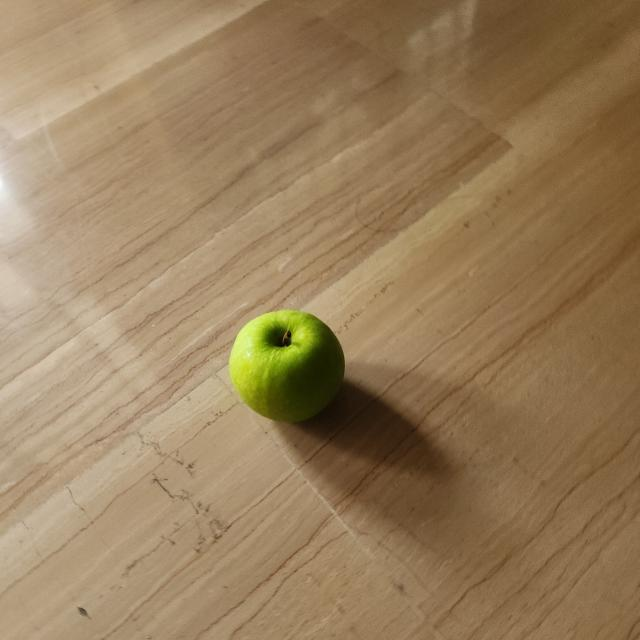apple: (222, 302, 358, 434)
